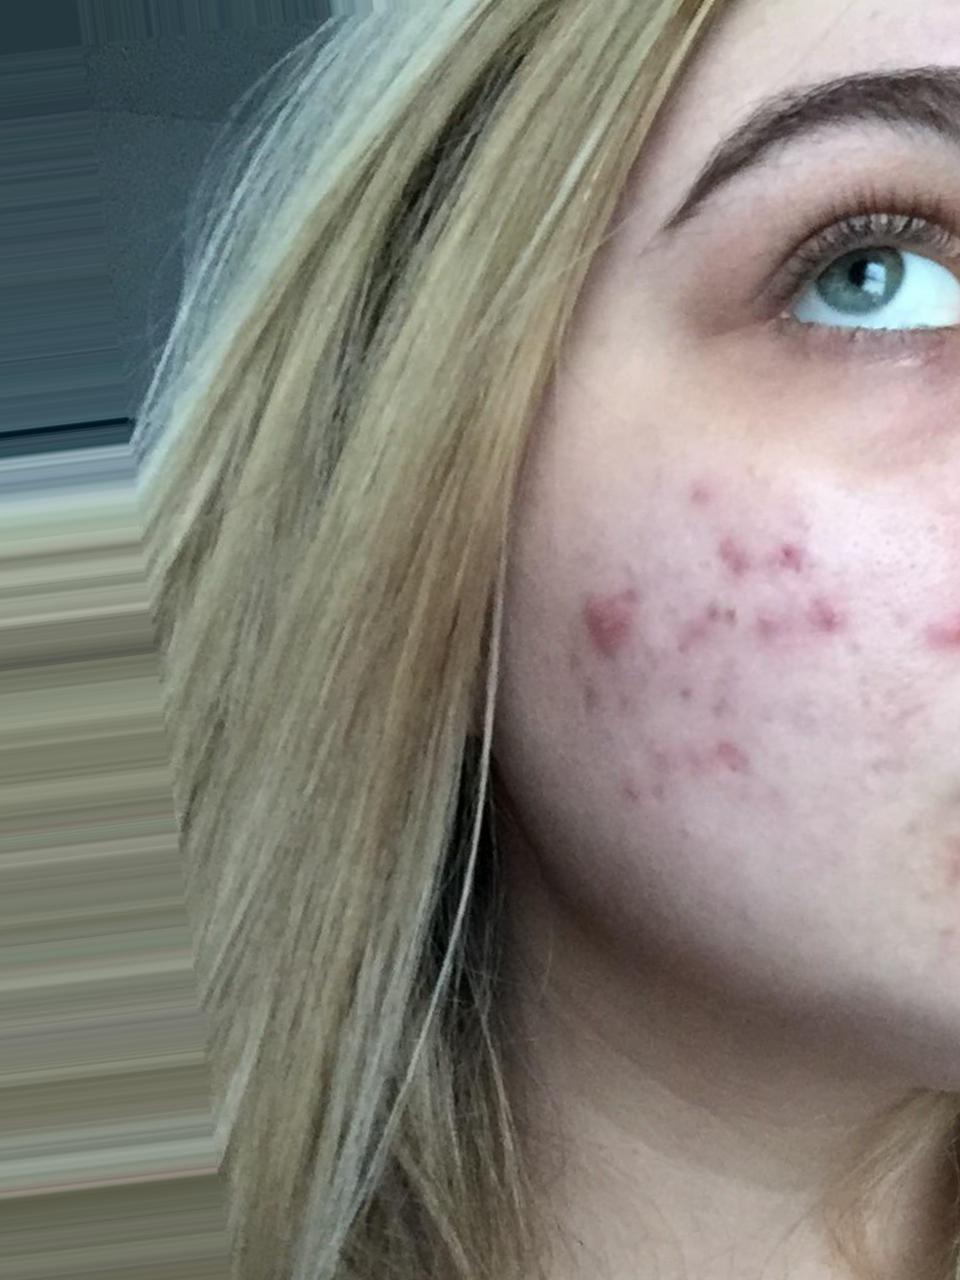Acne: (601, 691, 834, 884), (701, 495, 827, 675), (571, 534, 674, 726)
